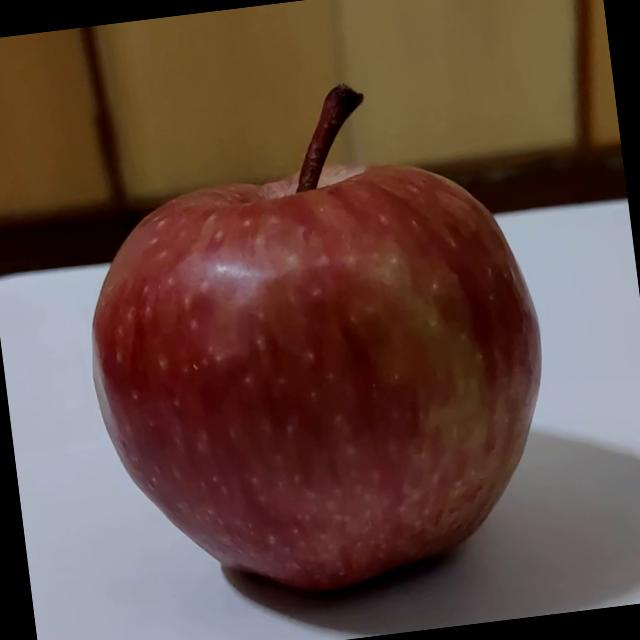apple: (59, 61, 576, 627)
